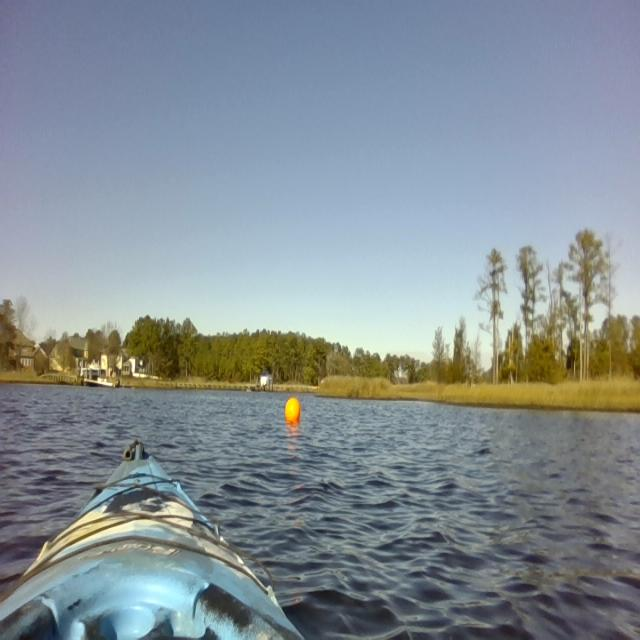Buoy: (282, 392, 304, 431)
